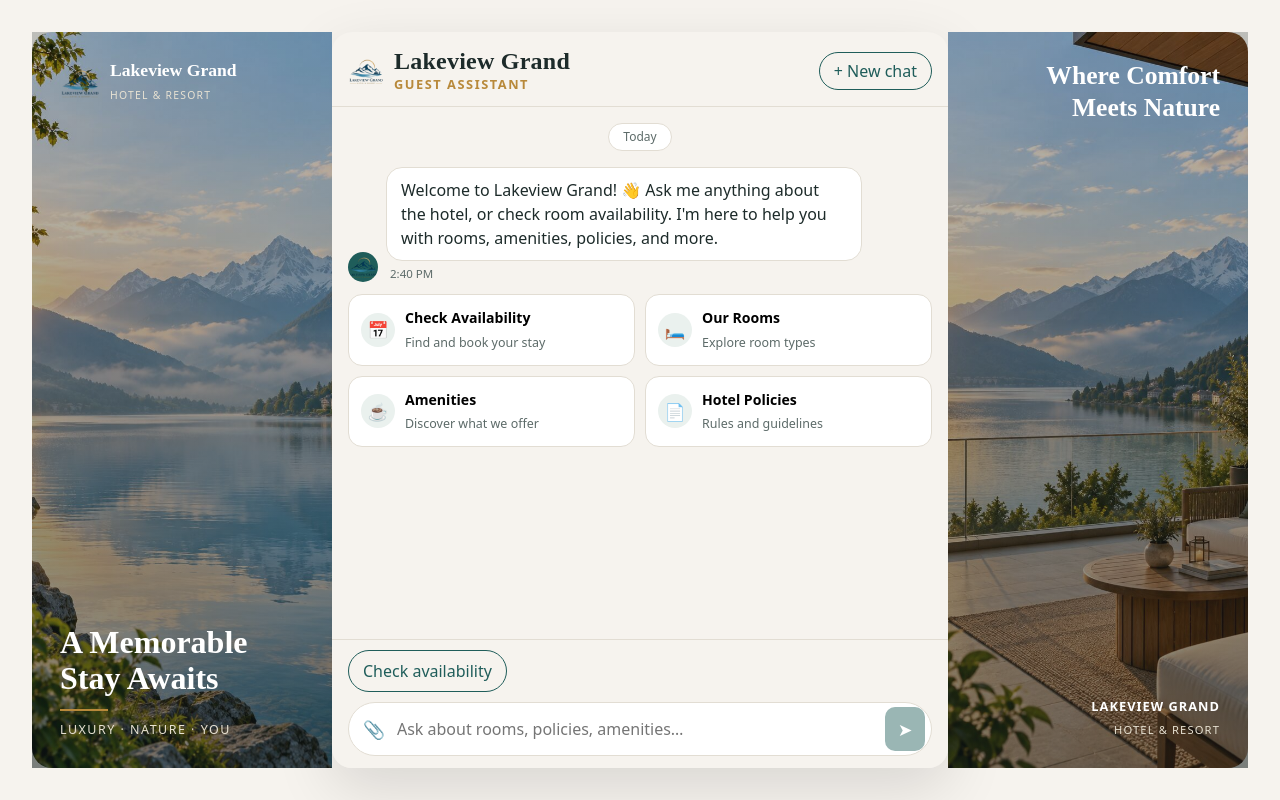
Test: does not crash when scrollIntoView returns a promise (newer browsers)
Click the button "🛏️ Our Rooms Explore room types" at (675, 330), box [645,294,932,366]
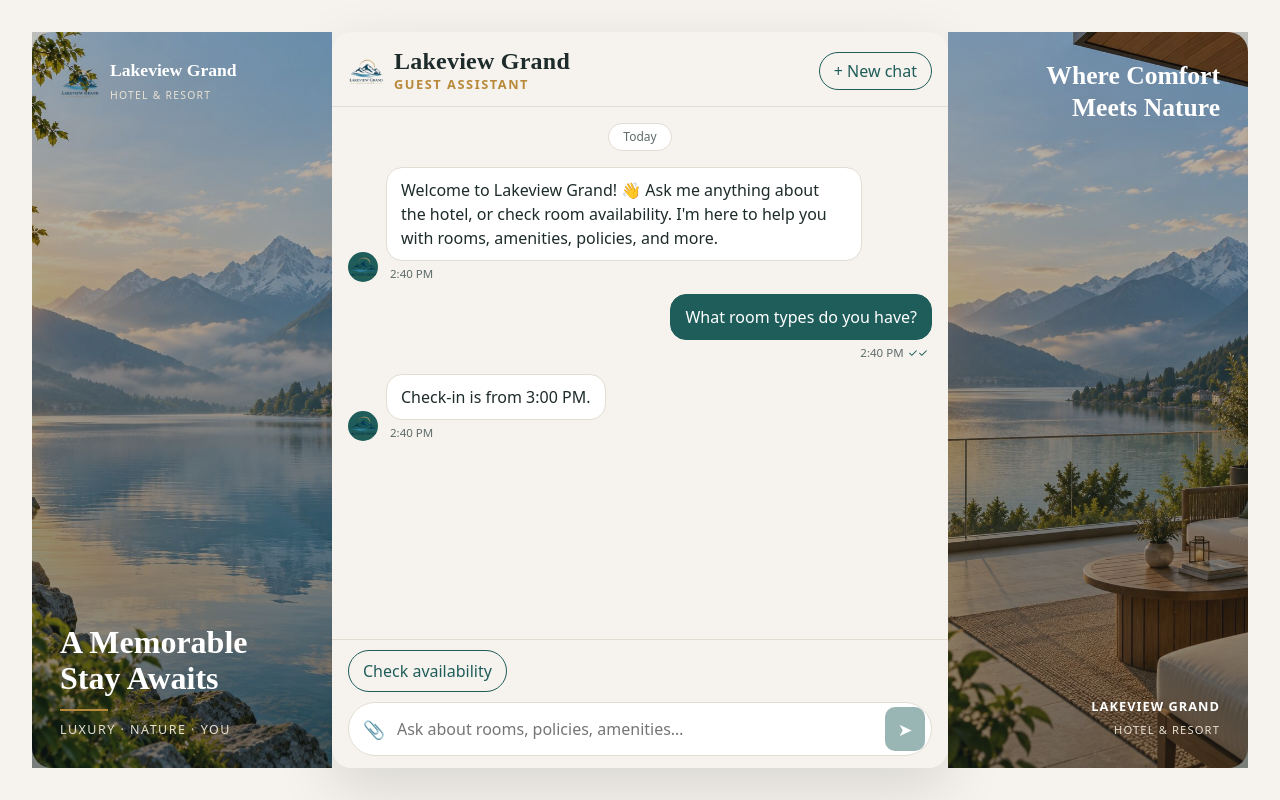
Now the text "Check-in is from 3:00 PM." is shown, box [386,374,606,420]
